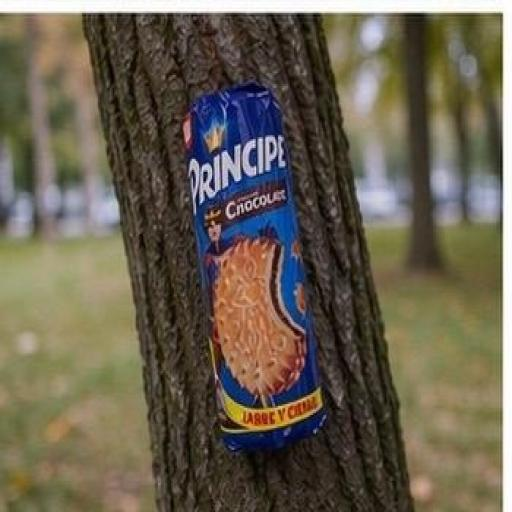prince: (124, 81, 375, 469)
